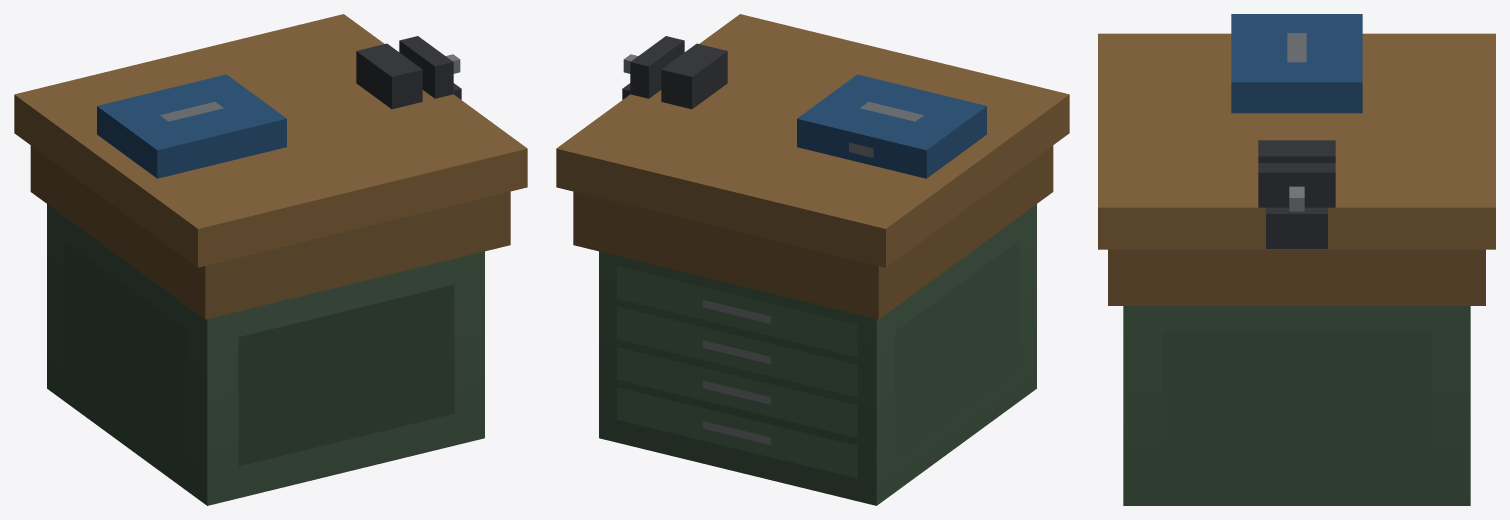
The model's file is table.workbench.green.glb.
3 views of the same model, side by side, from view 1: azimuth 30°, elevation 25°; view 2: azimuth 150°, elevation 25°; view 3: azimuth 270°, elevation 25° (orthographic). The views are drawn at different scales.
Parts seen in each view (by area): view 1: table_workbench_green; view 2: table_workbench_green; view 3: table_workbench_green.
Part boxes in pixels (left/top/right/bottom): table_workbench_green: left=14, top=14, right=527, bottom=505; table_workbench_green: left=556, top=14, right=1069, bottom=505; table_workbench_green: left=1098, top=14, right=1495, bottom=505.
Size of what is drawn, in the model's own units: 1.14 by 1 by 1.03.
